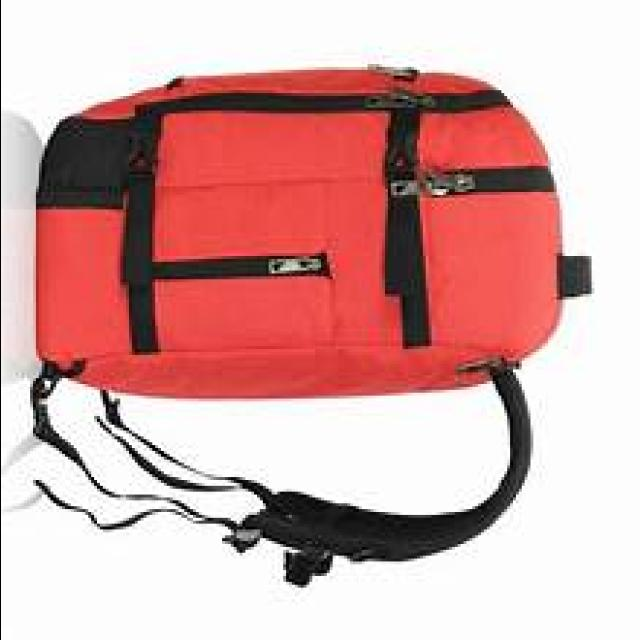backpack: (33, 62, 595, 586)
